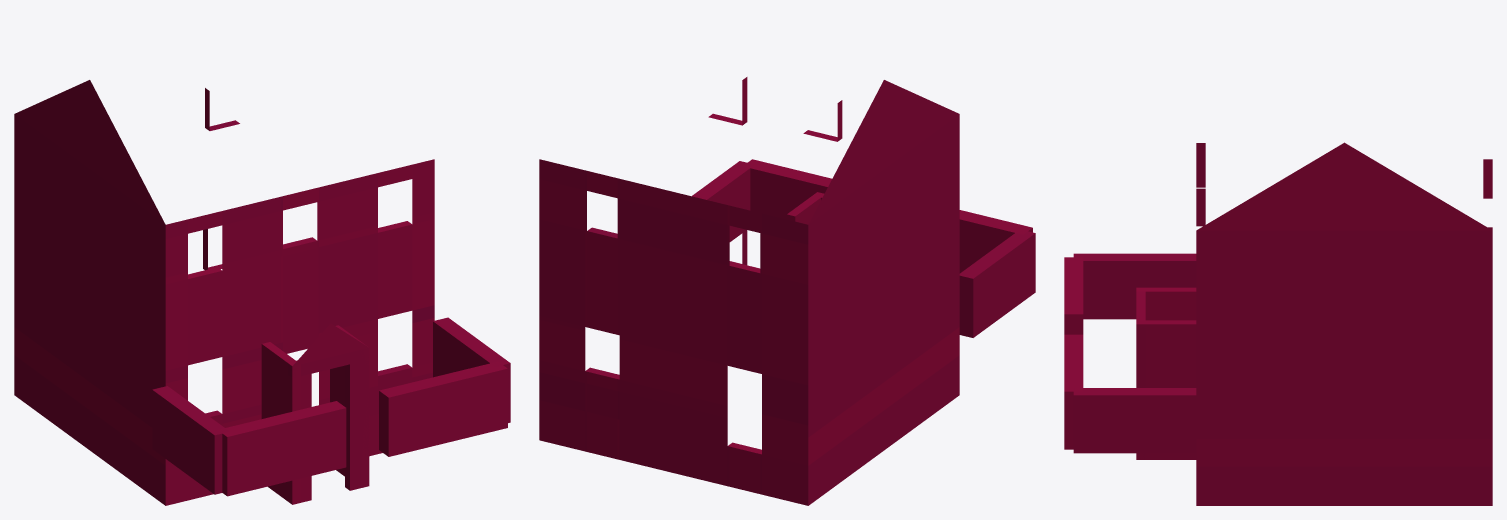
Rendered from SM_Bld_058_Masonry.glb.
3 views of the same model, side by side, from view 1: azimuth 30°, elevation 25°; view 2: azimuth 150°, elevation 25°; view 3: azimuth 270°, elevation 25° (orthographic). The views are drawn at different scales.
Visible parts, largest first — view 1: SM_Bld_058_Masonry; view 2: SM_Bld_058_Masonry; view 3: SM_Bld_058_Masonry.
Part boxes in pixels (x1,y1,x2,y2): SM_Bld_058_Masonry: [14, 80, 510, 505]; SM_Bld_058_Masonry: [539, 77, 1035, 505]; SM_Bld_058_Masonry: [1064, 142, 1492, 505].
Bounding box in the file's own units: 7.71 × 9.23 × 9.87.
